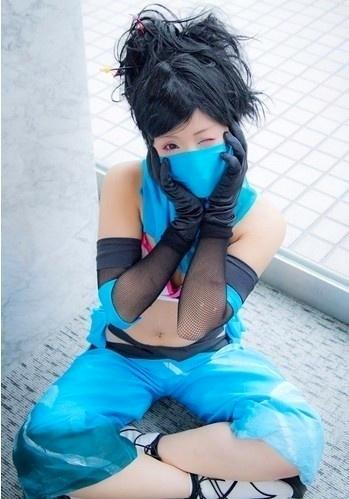OK: (153, 126, 229, 202)
